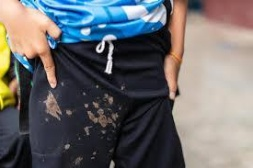earth: (85, 95, 116, 133), (43, 94, 64, 121)
